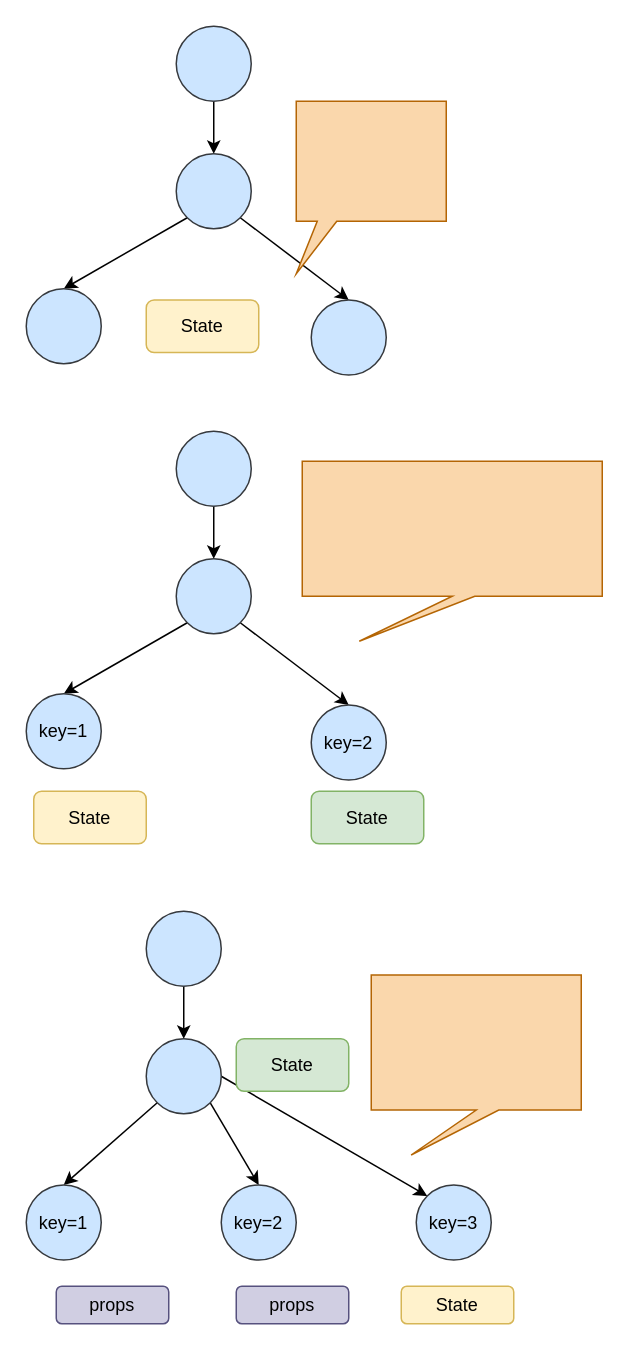
The diagram is 629 pixels wide and 1350 high, and some of its shapes have lost their labels. Each missing label, with the box of its shape:
StateをPropsに渡すことで渡した子コンポーネントしか共有されない: (370, 974, 581, 1155)
それぞれのコンポーネントにkey属性を付与するとStateも分けれるが、コンポーネントが切り替わるたびにレンダリングされStateがリセットされる: (301, 460, 602, 641)
同一位置のコンポーネントはStateの値が切り替え時に引き継がれてしまう: (295, 100, 446, 274)
